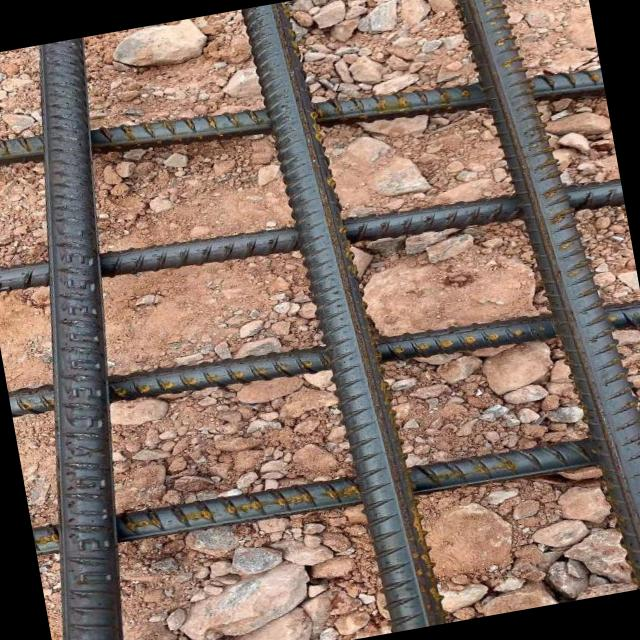ribbed bar: (238, 0, 445, 638), (0, 36, 195, 640), (445, 0, 640, 602), (0, 32, 604, 206), (7, 279, 640, 437), (0, 158, 623, 314), (31, 415, 640, 564)
